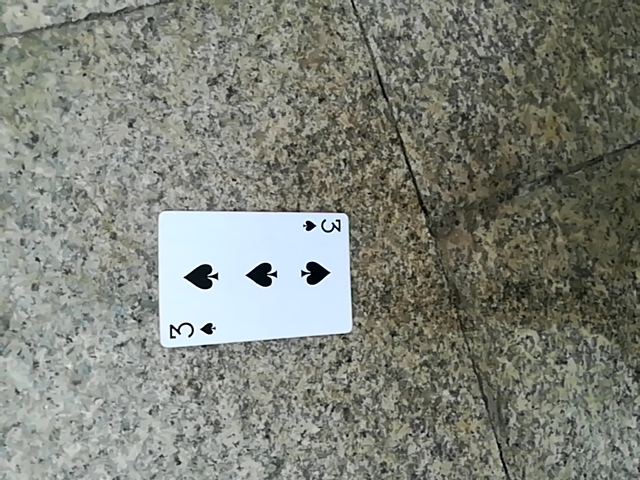ht 3: (159, 212, 351, 353)
